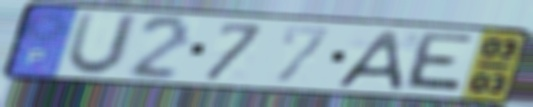2: (125, 13, 201, 82)
7: (203, 22, 269, 82), (273, 23, 333, 85)
A: (331, 29, 406, 92)
E: (398, 30, 479, 95)
U: (62, 9, 143, 78)
